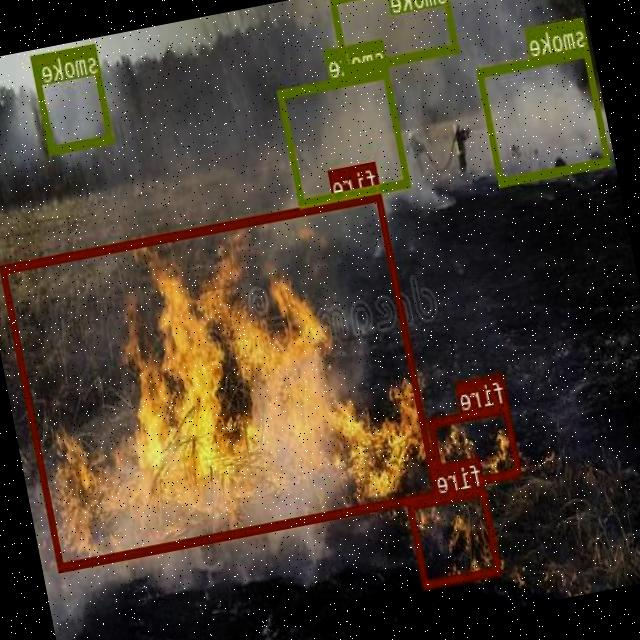fire: (1, 191, 442, 571), (408, 486, 503, 588), (428, 403, 522, 490)
smoke: (478, 45, 613, 186), (278, 68, 412, 206), (31, 42, 116, 153), (329, 0, 459, 72)
